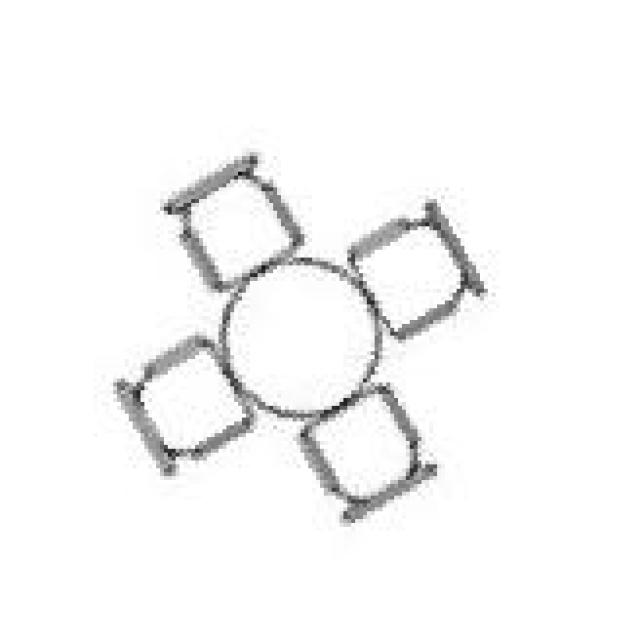table: (113, 144, 484, 523)
